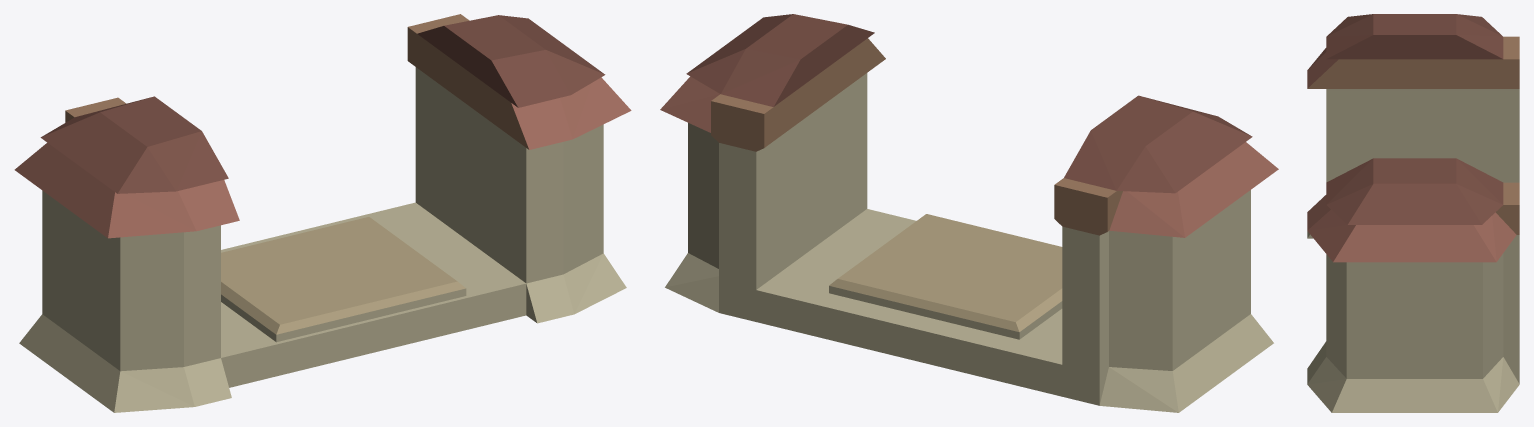
File: bridge_entrance.fbx
3 renders of one model, left to right at view 1: azimuth 30°, elevation 25°; view 2: azimuth 150°, elevation 25°; view 3: azimuth 270°, elevation 25°, orthographic. The views are drawn at different scales.
Parts seen in each view (by area): view 1: polySurface2; view 2: polySurface2; view 3: polySurface2.
Boxes of the visible parts, x1,y1,x2,y2 form: polySurface2: (14,14,631,412); polySurface2: (660,14,1278,412); polySurface2: (1307,14,1519,412).
Size of the model in its own units: 8.58 by 3.72 by 3.46.
